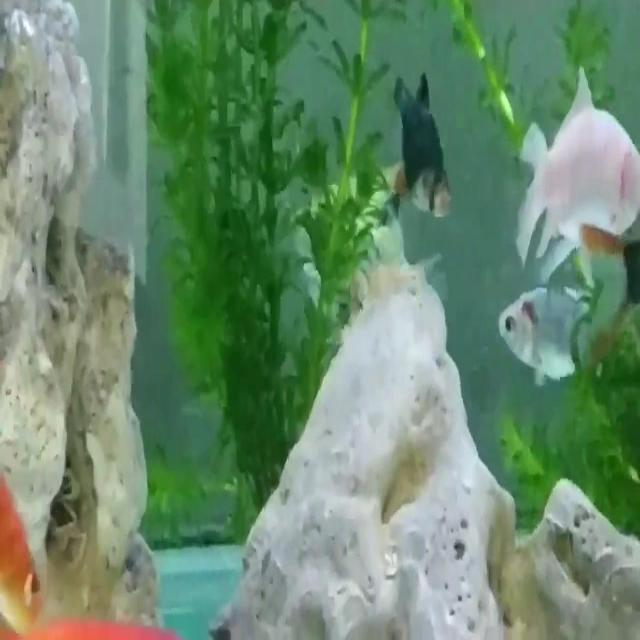GoldFish: (516, 59, 640, 265)
